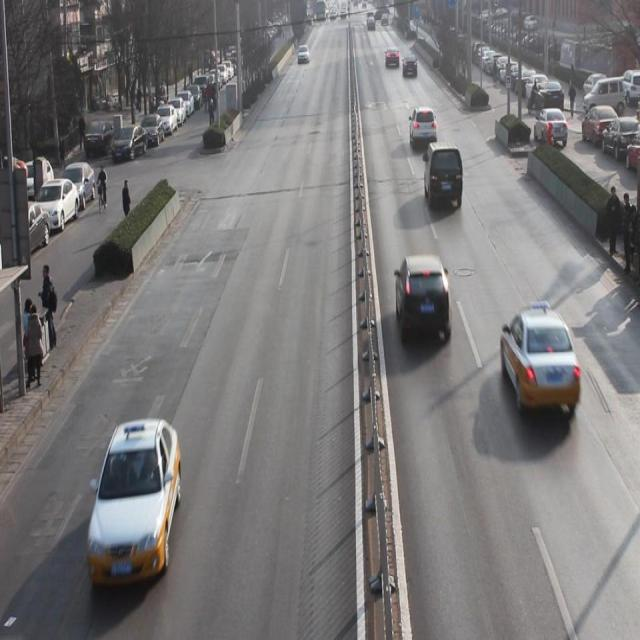car: (91, 417, 180, 593), (500, 311, 583, 423), (394, 254, 453, 352), (410, 107, 440, 151), (296, 42, 311, 69), (386, 49, 403, 72), (401, 58, 418, 79)
truck: (422, 143, 464, 214)
